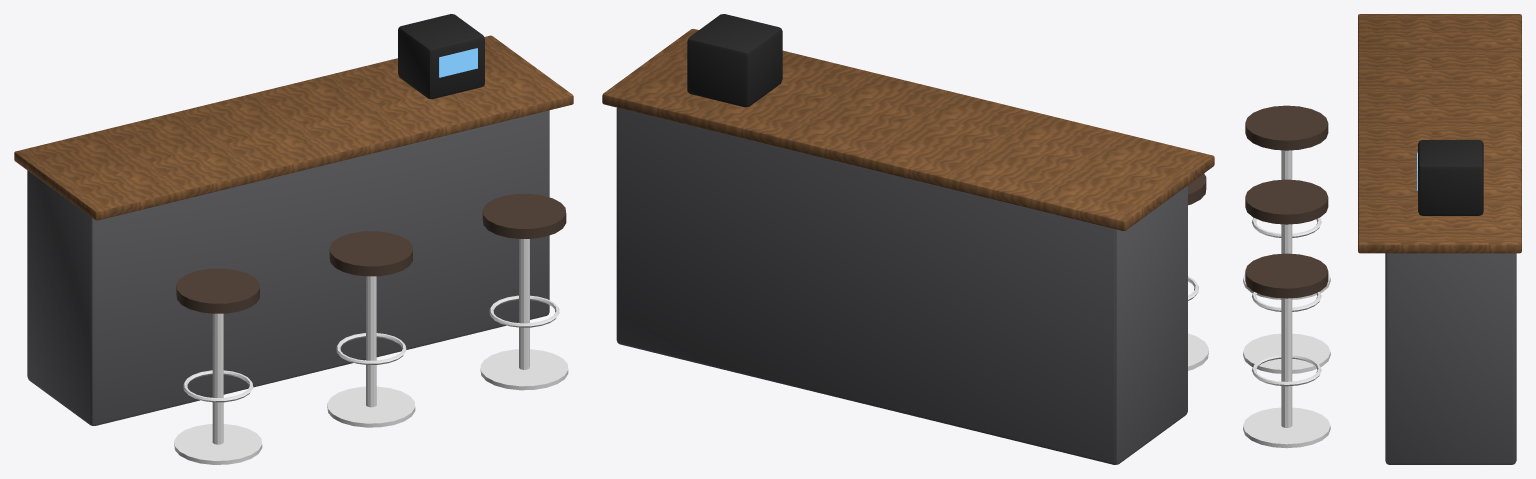
The model's file is g_bar.fbx.
3 views of the same model, side by side, from view 1: azimuth 30°, elevation 25°; view 2: azimuth 150°, elevation 25°; view 3: azimuth 270°, elevation 25° (orthographic). The views are drawn at different scales.
Parts seen in each view (by area): view 1: g_bar_darksteel, g_bar_wood, g_bar_chrome, g_bar_leather, g_bar_black, g_bar_screen; view 2: g_bar_darksteel, g_bar_wood, g_bar_black, g_bar_chrome; view 3: g_bar_wood, g_bar_darksteel, g_bar_leather, g_bar_chrome, g_bar_black.
Boxes of the visible parts, left/top/right/bottom form: g_bar_darksteel: left=27, top=110, right=549, bottom=425; g_bar_wood: left=14, top=35, right=573, bottom=220; g_bar_chrome: left=174, top=239, right=568, bottom=464; g_bar_leather: left=176, top=193, right=566, bottom=313; g_bar_black: left=398, top=14, right=484, bottom=99; g_bar_screen: left=439, top=48, right=477, bottom=77; g_bar_darksteel: left=616, top=107, right=1187, bottom=464; g_bar_wood: left=602, top=29, right=1214, bottom=230; g_bar_black: left=687, top=14, right=782, bottom=107; g_bar_chrome: left=1188, top=276, right=1208, bottom=370; g_bar_wood: left=1358, top=14, right=1521, bottom=253; g_bar_darksteel: left=1385, top=253, right=1516, bottom=464; g_bar_leather: left=1245, top=105, right=1328, bottom=298; g_bar_chrome: left=1243, top=150, right=1330, bottom=448; g_bar_black: left=1418, top=140, right=1483, bottom=215.
Size of the model in its own units: 2.5 by 1.4 by 1.27.
6 materials, 1 textured.
